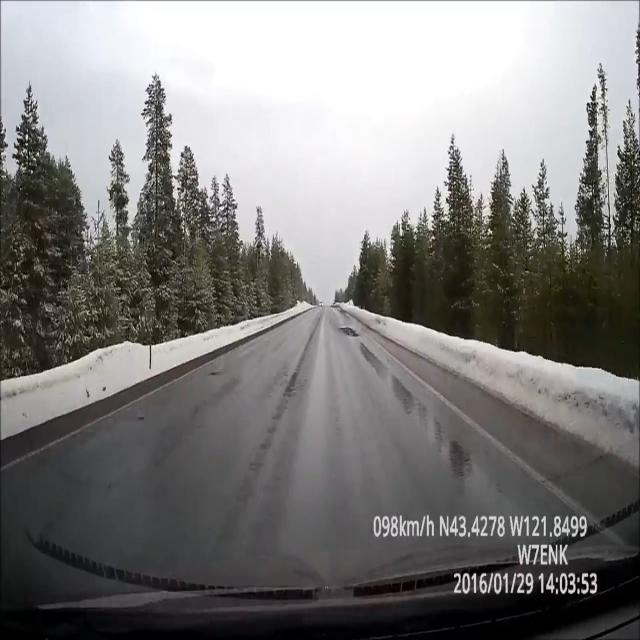Pothole: (339, 324, 361, 342)
